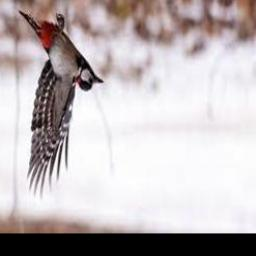Woodpecker: (19, 9, 104, 200)
